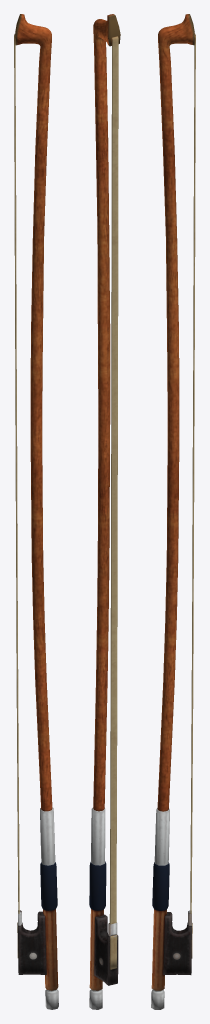
File: violin_arc.fbx
The picture shows the model from 3 angles, left to right: view 1: azimuth 90°, elevation 25°; view 2: azimuth 210°, elevation 25°; view 3: azimuth 270°, elevation 25°; orthographic projection.
Parts seen in each view (by area): view 1: violin_arc; view 2: violin_arc; view 3: violin_arc.
Boxes of the visible parts, x1,y1,x2,y2 form: violin_arc: (14,14,58,1009); violin_arc: (89,14,120,1009); violin_arc: (151,14,195,1009).
Size of the model in its own units: 0.0577 by 1.41 by 0.0212.
